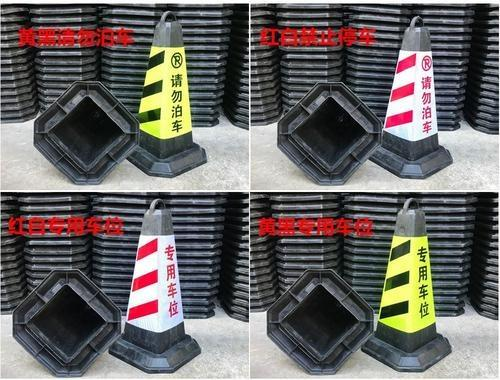cone_barrel: (111, 202, 199, 369), (362, 204, 450, 367), (369, 19, 453, 178), (126, 13, 205, 173)
